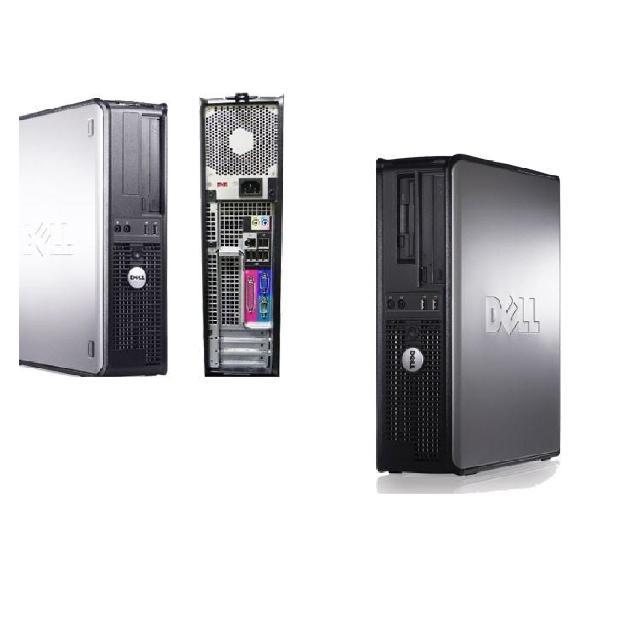Desktop-PC: (376, 150, 568, 484), (14, 98, 172, 382), (195, 92, 288, 378)
